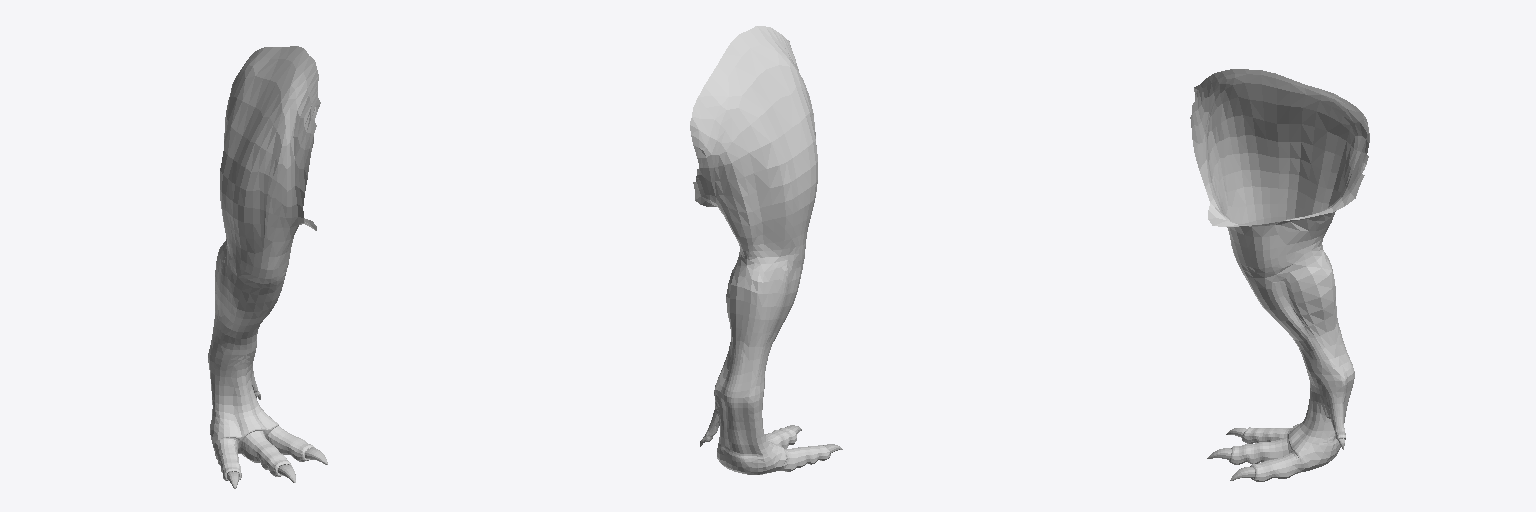
The model's file is PataDerechaTRex.obj.
The picture shows the model from 3 angles: view 1: azimuth 30°, elevation 25°; view 2: azimuth 150°, elevation 25°; view 3: azimuth 270°, elevation 25°; orthographic projection.
Visible parts, largest first — view 1: PataDerechaTRex; view 2: PataDerechaTRex; view 3: PataDerechaTRex.
Boxes of the visible parts, x1=… form: PataDerechaTRex: x1=208, y1=46, x2=327, y2=488; PataDerechaTRex: x1=690, y1=26, x2=842, y2=474; PataDerechaTRex: x1=1190, y1=69, x2=1369, y2=481.
Size of the model in its own units: 82.64 by 334 by 133.